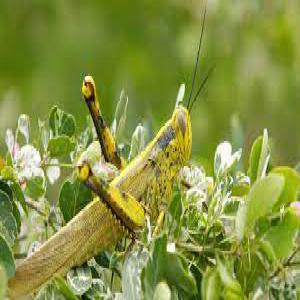locust: (20, 58, 217, 299)
